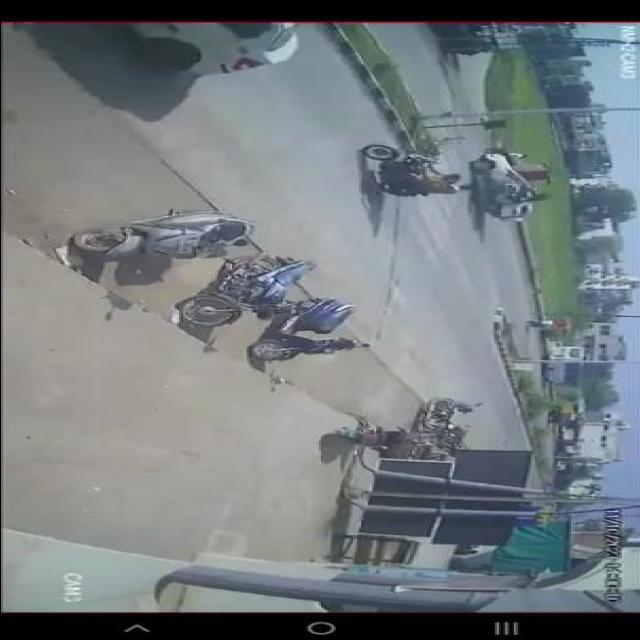accident: (457, 149, 555, 227)
